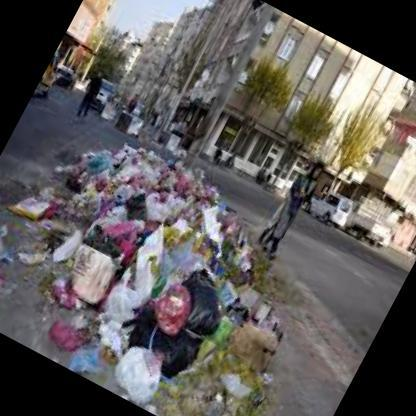Garbage: (7, 132, 204, 382), (12, 194, 168, 379), (191, 372, 328, 415), (53, 236, 122, 315), (105, 334, 172, 407), (174, 272, 239, 341), (92, 203, 160, 268), (0, 204, 34, 324), (21, 170, 80, 232), (144, 270, 198, 336), (200, 337, 262, 392), (224, 286, 284, 339), (214, 230, 270, 280), (68, 142, 117, 192), (199, 196, 250, 240), (150, 188, 186, 223), (109, 171, 138, 202)
